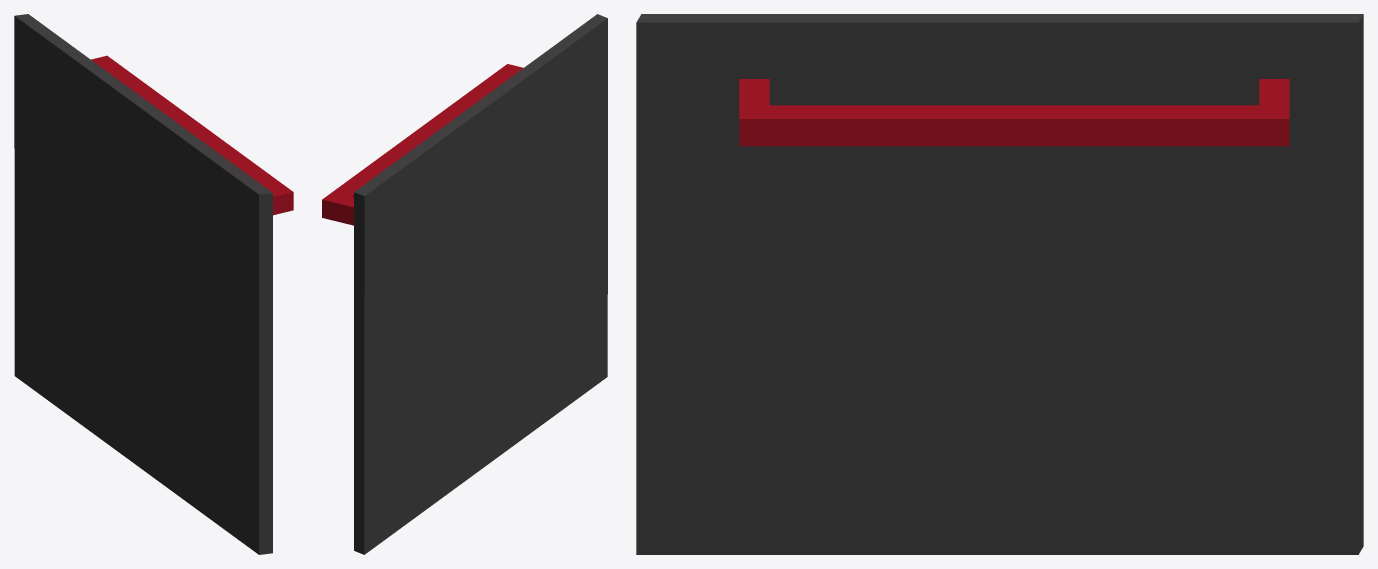
The model's file is oven  Door.fbx.
3 views of the same model, side by side, from view 1: azimuth 30°, elevation 25°; view 2: azimuth 150°, elevation 25°; view 3: azimuth 270°, elevation 25° (orthographic). The views are drawn at different scales.
Visible parts, largest first — view 1: Plane.011, Cube.018; view 2: Plane.011, Cube.018; view 3: Plane.011, Cube.018.
Boxes of the visible parts, x1,y1,x2,y2 form: Plane.011: (14, 14, 272, 554); Cube.018: (91, 55, 293, 215); Plane.011: (354, 14, 607, 554); Cube.018: (322, 64, 523, 225); Plane.011: (636, 14, 1363, 554); Cube.018: (739, 79, 1289, 146).
Bounding box in the file's own units: 333 × 1692 × 2096.
